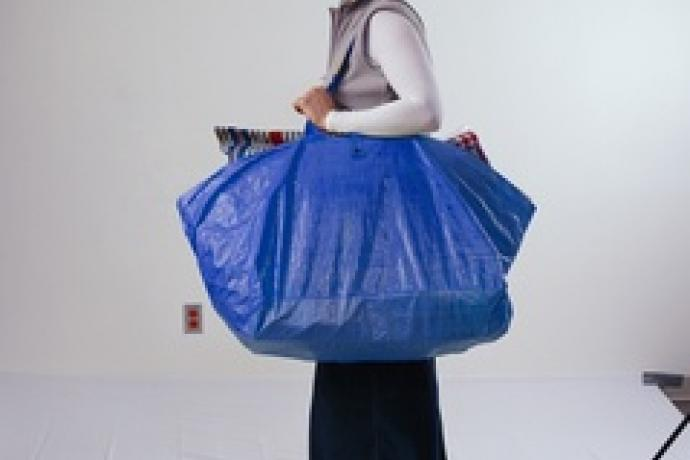plastic_bagwdw: (145, 69, 590, 402)
